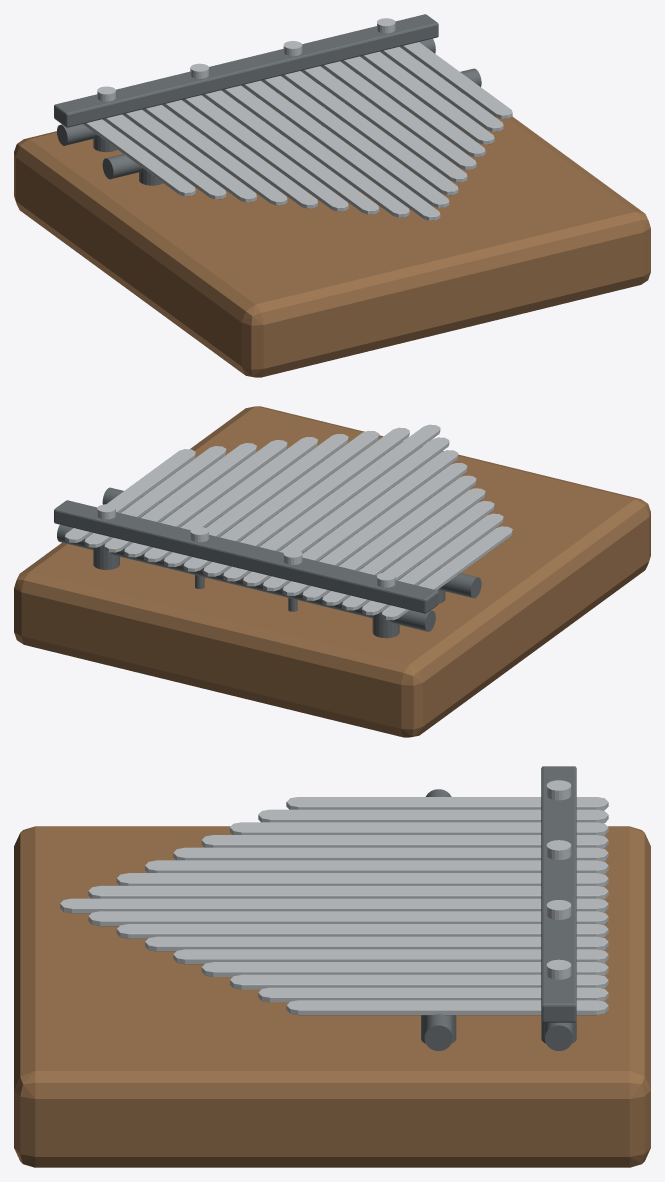
Rendered from full.fbx.
3 views of the same model, one above another, from view 1: azimuth 30°, elevation 25°; view 2: azimuth 150°, elevation 25°; view 3: azimuth 270°, elevation 25° (orthographic). The views are drawn at different scales.
Parts seen in each view (by area): view 1: Solid rounded wood board, Upper transverse clamping bar, Rounded spring tine 9, Rounded spring tine 8, Rounded spring tine 10, Rounded spring tine 7, Rounded spring tine 11, Rounded spring tine 6, Rounded spring tine 12, Rounded spring tine 13, Rounded spring tine 5, Rounded spring tine 4 (+9 smaller); view 2: Solid rounded wood board, Upper transverse clamping bar, Rounded spring tine 9, Rounded spring tine 10, Rounded spring tine 8, Rounded spring tine 11, Rounded spring tine 7, Rounded spring tine 6, Rounded spring tine 12, Rounded spring tine 5, Rounded spring tine 13, Rounded spring tine 14 (+11 smaller); view 3: Solid rounded wood board, Upper transverse clamping bar, Rounded spring tine 9, Rounded spring tine 8, Rounded spring tine 10, Rounded spring tine 12, Rounded spring tine 11, Rounded spring tine 7, Rounded spring tine 5, Rounded spring tine 6, Rounded spring tine 13, Rounded spring tine 14 (+9 smaller).
Part boxes in pixels (bbox=[...]): Solid rounded wood board: bbox=[14, 60, 650, 377]; Upper transverse clamping bar: bbox=[54, 14, 438, 127]; Rounded spring tine 9: bbox=[241, 80, 440, 220]; Rounded spring tine 8: bbox=[221, 85, 409, 217]; Rounded spring tine 10: bbox=[261, 76, 449, 207]; Rounded spring tine 7: bbox=[202, 90, 379, 214]; Rounded spring tine 11: bbox=[281, 71, 458, 195]; Rounded spring tine 6: bbox=[182, 95, 348, 211]; Rounded spring tine 12: bbox=[301, 66, 467, 182]; Rounded spring tine 13: bbox=[320, 61, 476, 169]; Rounded spring tine 5: bbox=[162, 100, 317, 208]; Rounded spring tine 4: bbox=[142, 105, 287, 205]; Solid rounded wood board: bbox=[14, 406, 650, 737]; Upper transverse clamping bar: bbox=[54, 500, 438, 613]; Rounded spring tine 9: bbox=[223, 424, 440, 581]; Rounded spring tine 10: bbox=[203, 427, 409, 576]; Rounded spring tine 8: bbox=[243, 437, 449, 586]; Rounded spring tine 11: bbox=[183, 430, 379, 571]; Rounded spring tine 7: bbox=[263, 450, 458, 591]; Rounded spring tine 6: bbox=[282, 463, 467, 596]; Rounded spring tine 12: bbox=[164, 434, 348, 567]; Rounded spring tine 5: bbox=[302, 475, 476, 600]; Rounded spring tine 13: bbox=[144, 437, 317, 562]; Rounded spring tine 14: bbox=[124, 440, 287, 557]; Solid rounded wood board: bbox=[14, 826, 650, 1167]; Upper transverse clamping bar: bbox=[541, 766, 576, 1022]; Rounded spring tine 9: bbox=[60, 898, 608, 913]; Rounded spring tine 8: bbox=[88, 885, 608, 899]; Rounded spring tine 10: bbox=[88, 911, 608, 926]; Rounded spring tine 12: bbox=[145, 936, 608, 951]; Rounded spring tine 11: bbox=[116, 924, 608, 938]; Rounded spring tine 7: bbox=[116, 873, 608, 886]; Rounded spring tine 5: bbox=[173, 847, 608, 861]; Rounded spring tine 6: bbox=[145, 860, 608, 873]; Rounded spring tine 13: bbox=[173, 949, 608, 964]; Rounded spring tine 14: bbox=[201, 962, 608, 976].
Bounding box in the file's own units: 17.5 × 5.3 × 18.
